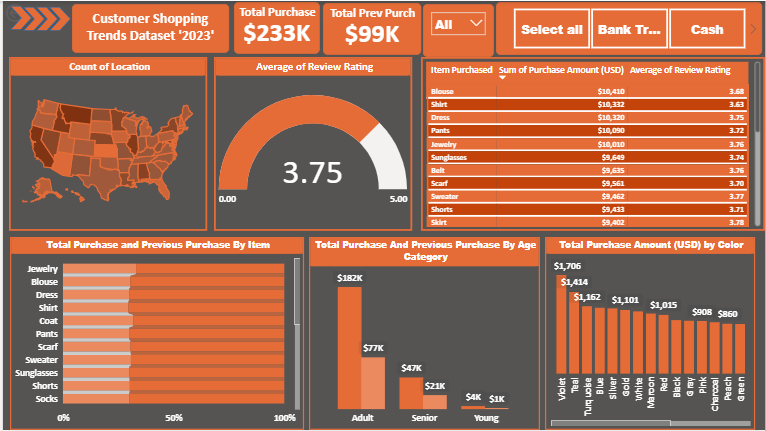

What the dashboard file says about the page in this screenshot:
{"tool":"powerbi","page":{"name":"Page 2","canvas":[1280,720],"ordinal":1},"visuals":[{"type":"shapeMap","title":"Count of Location","fields":{"Category":["shopping_trends.Location"],"Value":["CountNonNull(shopping_trends.Location)"]},"box":[10.1,93.8,332.6,292.3],"z":0},{"type":"gauge","fields":{"Y":["Avg(shopping_trends.Review Rating)"]},"box":[354.4,93.8,332.6,292.3],"z":1000},{"type":"tableEx","fields":{"Values":["shopping_trends.Item Purchased","Sum(shopping_trends.Purchase Amount (USD))","Avg(shopping_trends.Review Rating)"]},"box":[702.2,93.8,577.8,292.3],"z":2000},{"type":"actionButton","box":[0,0,100,40],"z":3000},{"type":"textbox","box":[115.9,5,263.7,82.3],"z":4000},{"type":"shape","box":[11.3,8.6,37,40.3],"z":5000},{"type":"shape","box":[55,10.3,37,40.3],"z":6000},{"type":"shape","box":[76.8,10.3,37,40.3],"z":7000},{"type":"shape","box":[33.6,10.1,37,40.3],"z":8000},{"type":"card","title":"Total  Prev Purch","fields":{"Values":["Sum(shopping_trends.Previous Purchases)"]},"box":[537.5,3.4,157.9,87.3],"z":9000},{"type":"slicer","fields":{"Values":["shopping_trends.Preferred Payment Method"]},"box":[828.1,1.7,446.8,89],"z":10000},{"type":"clusteredColumnChart","title":"Total Purchase And Previous Purchase By Age Category","fields":{"Category":["shopping_trends.Age Category"],"Y":["Sum(shopping_trends.Purchase Amount (USD))","Sum(shopping_trends.Previous Purchases)"]},"box":[514,396.4,388,324.2],"z":11000},{"type":"hundredPercentStackedBarChart","title":"Total Purchase and Previous Purchase By Item","fields":{"Category":["shopping_trends.Item Purchased"],"Y":["Sum(shopping_trends.Previous Purchases)","Sum(shopping_trends.Purchase Amount (USD))"]},"box":[11.8,396.4,493.9,324.2],"z":12000},{"type":"slicer","fields":{"Values":["shopping_trends.Age Group"]},"box":[705.5,5,119.3,89],"z":13000},{"type":"card","title":"Total Purchase","fields":{"Values":["Sum(shopping_trends.Purchase Amount (USD))"]},"box":[388,1.7,144.5,87.3],"z":14000},{"type":"clusteredColumnChart","title":"Total Purchase Amount (USD) by Color","fields":{"Category":["shopping_trends.Color"],"Y":["Sum(shopping_trends.Purchase Amount (USD))"]},"box":[910.4,395.8,352.8,324.2],"z":15000}]}

Visuals, with their boxes in screenshot pixels (x1, y1, x2, y2), scaled from the page's 1280x720 canvas onto the 766x431 screenshot:
"Count of Location" shapeMap: left=6, top=56, right=205, bottom=231
gauge - Avg(shopping_trends.Review Rating): left=212, top=56, right=411, bottom=231
tableEx - shopping_trends.Item Purchased x Sum(shopping_trends.Purchase Amount (USD)): left=420, top=56, right=765, bottom=231
actionButton: left=0, top=0, right=60, bottom=24
textbox: left=69, top=3, right=227, bottom=52
shape: left=7, top=5, right=29, bottom=29
shape: left=33, top=6, right=55, bottom=30
shape: left=46, top=6, right=68, bottom=30
shape: left=20, top=6, right=42, bottom=30
"Total  Prev Purch" card: left=322, top=2, right=416, bottom=54
slicer - shopping_trends.Preferred Payment Method: left=496, top=1, right=763, bottom=54
"Total Purchase And Previous Purchase By Age Category" clusteredColumnChart: left=308, top=237, right=540, bottom=430
"Total Purchase and Previous Purchase By Item" hundredPercentStackedBarChart: left=7, top=237, right=303, bottom=430
slicer - shopping_trends.Age Group: left=422, top=3, right=494, bottom=56
"Total Purchase" card: left=232, top=1, right=319, bottom=53
"Total Purchase Amount (USD) by Color" clusteredColumnChart: left=545, top=237, right=756, bottom=430
